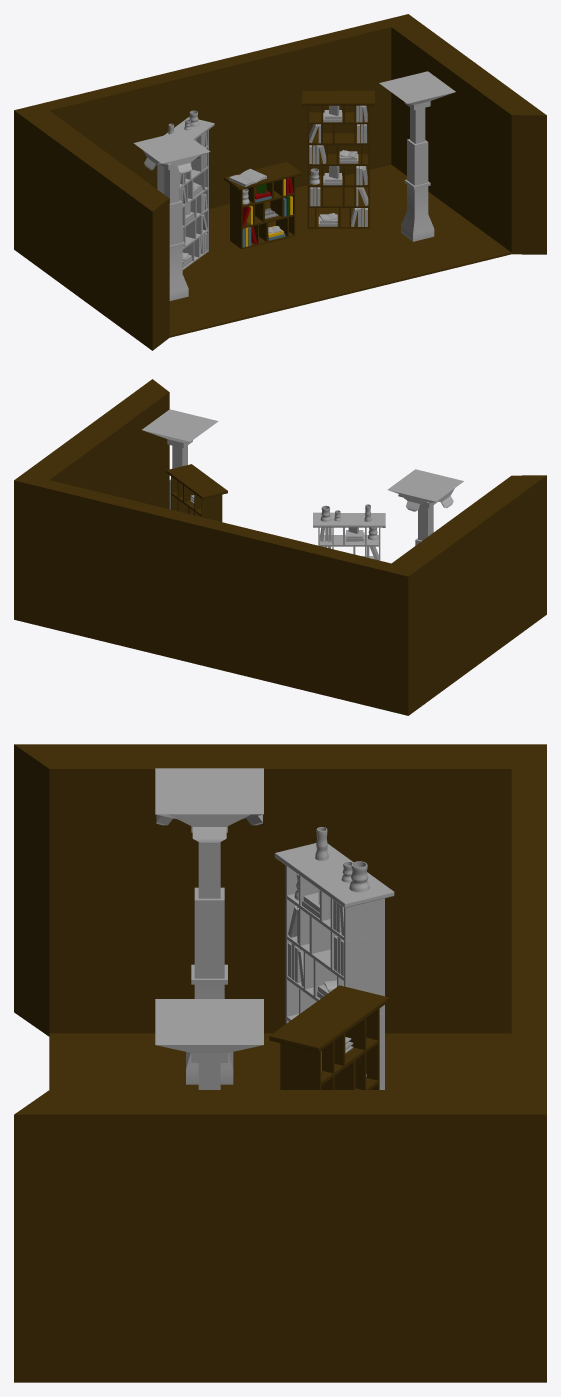
The model's file is Library_Prototype.fbx.
The picture shows the model from 3 angles, top to bottom: view 1: azimuth 30°, elevation 25°; view 2: azimuth 150°, elevation 25°; view 3: azimuth 270°, elevation 25°; orthographic projection. The views are drawn at different scales.
Visible parts, largest first — view 1: pCube28, pCube30, pCube29, pCube118, pCube1, pCube2, pCube3, pCube4, pCube89, pCube106, pCube91, pCube92 (+6 smaller); view 2: pCube28, pCube29, pCube30, pCube118, pCube55, pCube91, pCube58; view 3: pCube28, pCube29, pCube30, pCube118, pCube64, pCube91, pCube55, pCube58, pCube89, pCube70, pCube135.
Boxes of the visible parts, x1=… form: pCube28: x1=14, y1=14, x2=546, y2=350; pCube30: x1=379, y1=71, x2=455, y2=241; pCube29: x1=133, y1=131, x2=210, y2=300; pCube118: x1=302, y1=90, x2=374, y2=105; pCube1: x1=230, y1=216, x2=295, y2=249; pCube2: x1=230, y1=195, x2=295, y2=228; pCube3: x1=230, y1=176, x2=295, y2=207; pCube4: x1=224, y1=162, x2=301, y2=190; pCube89: x1=307, y1=124, x2=369, y2=145; pCube106: x1=307, y1=187, x2=369, y2=207; pCube91: x1=307, y1=105, x2=369, y2=124; pCube92: x1=307, y1=145, x2=369, y2=165; pCube28: x1=14, y1=379, x2=546, y2=715; pCube29: x1=387, y1=469, x2=463, y2=545; pCube30: x1=142, y1=409, x2=218, y2=509; pCube118: x1=166, y1=464, x2=227, y2=499; pCube55: x1=313, y1=512, x2=385, y2=527; pCube91: x1=171, y1=476, x2=222, y2=516; pCube58: x1=318, y1=527, x2=380, y2=546; pCube28: x1=14, y1=744, x2=546, y2=1382; pCube29: x1=155, y1=768, x2=263, y2=1084; pCube30: x1=155, y1=999, x2=263, y2=1089; pCube118: x1=269, y1=985, x2=388, y2=1052; pCube64: x1=285, y1=898, x2=384, y2=981; pCube91: x1=280, y1=1008, x2=379, y2=1086; pCube55: x1=274, y1=843, x2=394, y2=907; pCube58: x1=285, y1=865, x2=384, y2=941; pCube89: x1=280, y1=1043, x2=379, y2=1089; pCube70: x1=285, y1=939, x2=384, y2=1013; pCube135: x1=285, y1=979, x2=384, y2=1054.
Bounding box in the file's own units: 1019 × 368 × 620.
